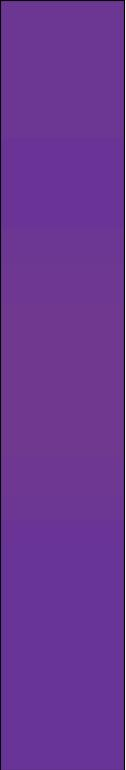safe: (10, 10, 116, 752)
